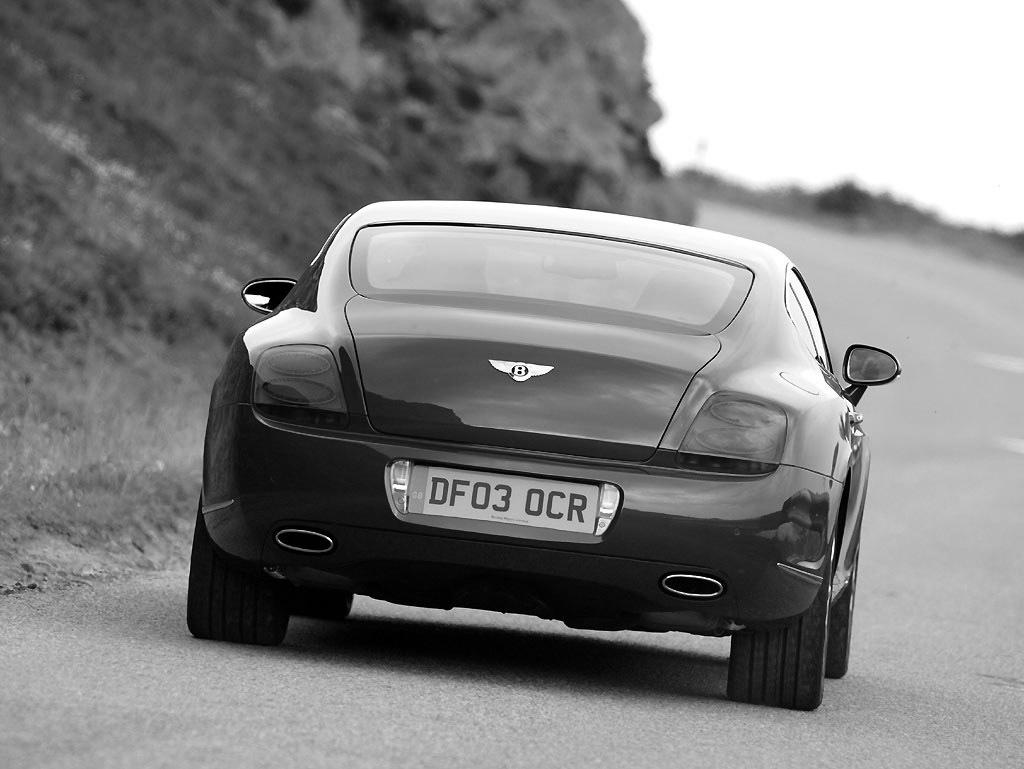car: (187, 199, 903, 716)
